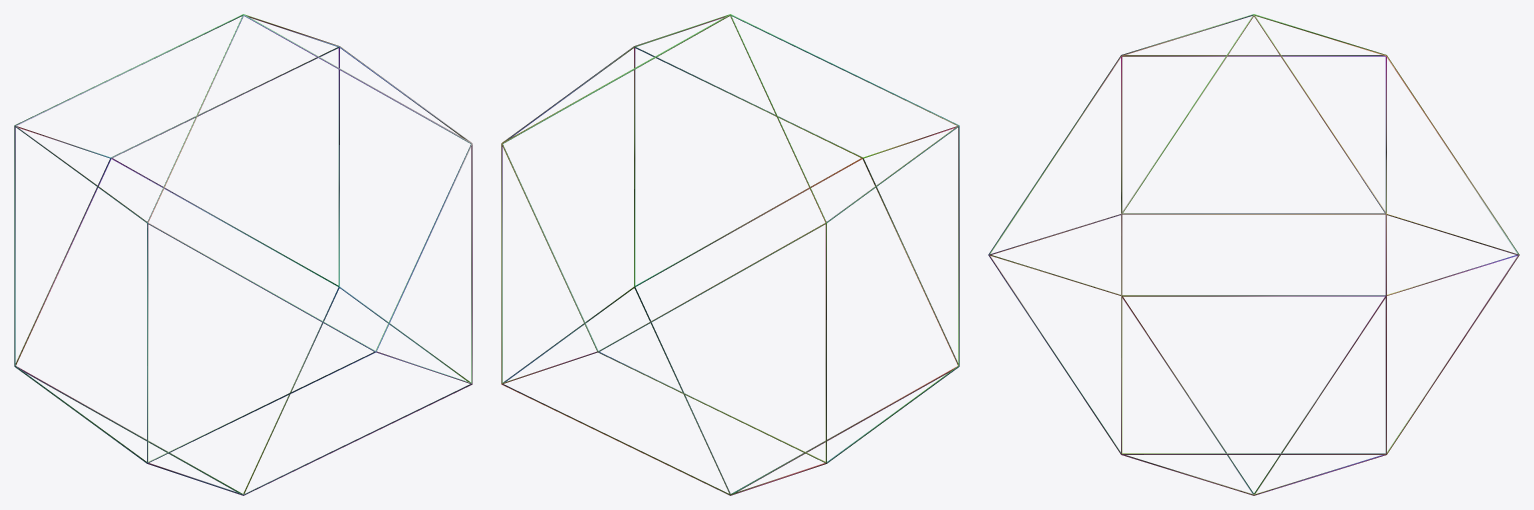
Rendered from zeometry-wireframes-wire-cuboctahedron_v5.glb.
The picture shows the model from 3 angles, left to right: view 1: azimuth 30°, elevation 25°; view 2: azimuth 150°, elevation 25°; view 3: azimuth 270°, elevation 25°; orthographic projection.
Parts seen in each view (by area): view 1: Wire Cuboctahedron_v5; view 2: Wire Cuboctahedron_v5; view 3: Wire Cuboctahedron_v5.
Boxes of the visible parts, left/top/right/bottom form: Wire Cuboctahedron_v5: left=14, top=14, right=472, bottom=495; Wire Cuboctahedron_v5: left=501, top=14, right=959, bottom=495; Wire Cuboctahedron_v5: left=988, top=14, right=1519, bottom=495.
Size of the model in its own units: 0.5 by 0.7071 by 0.7071.
